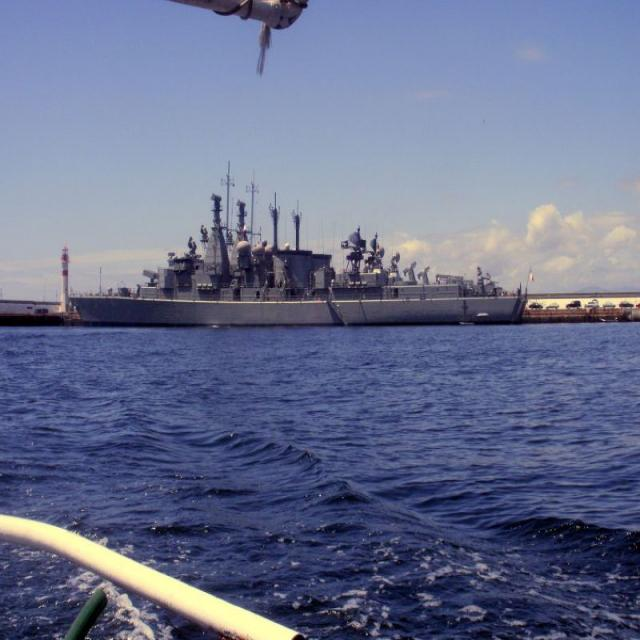Fragata: (60, 163, 539, 336)
